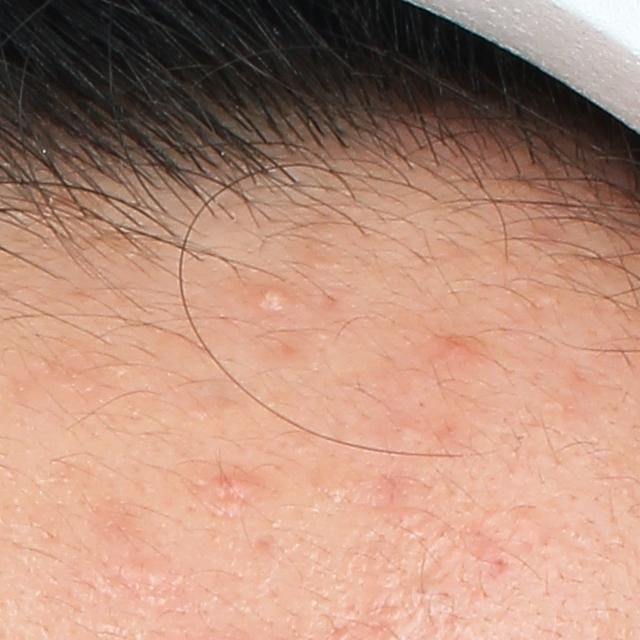papule: (442, 335, 473, 359)
